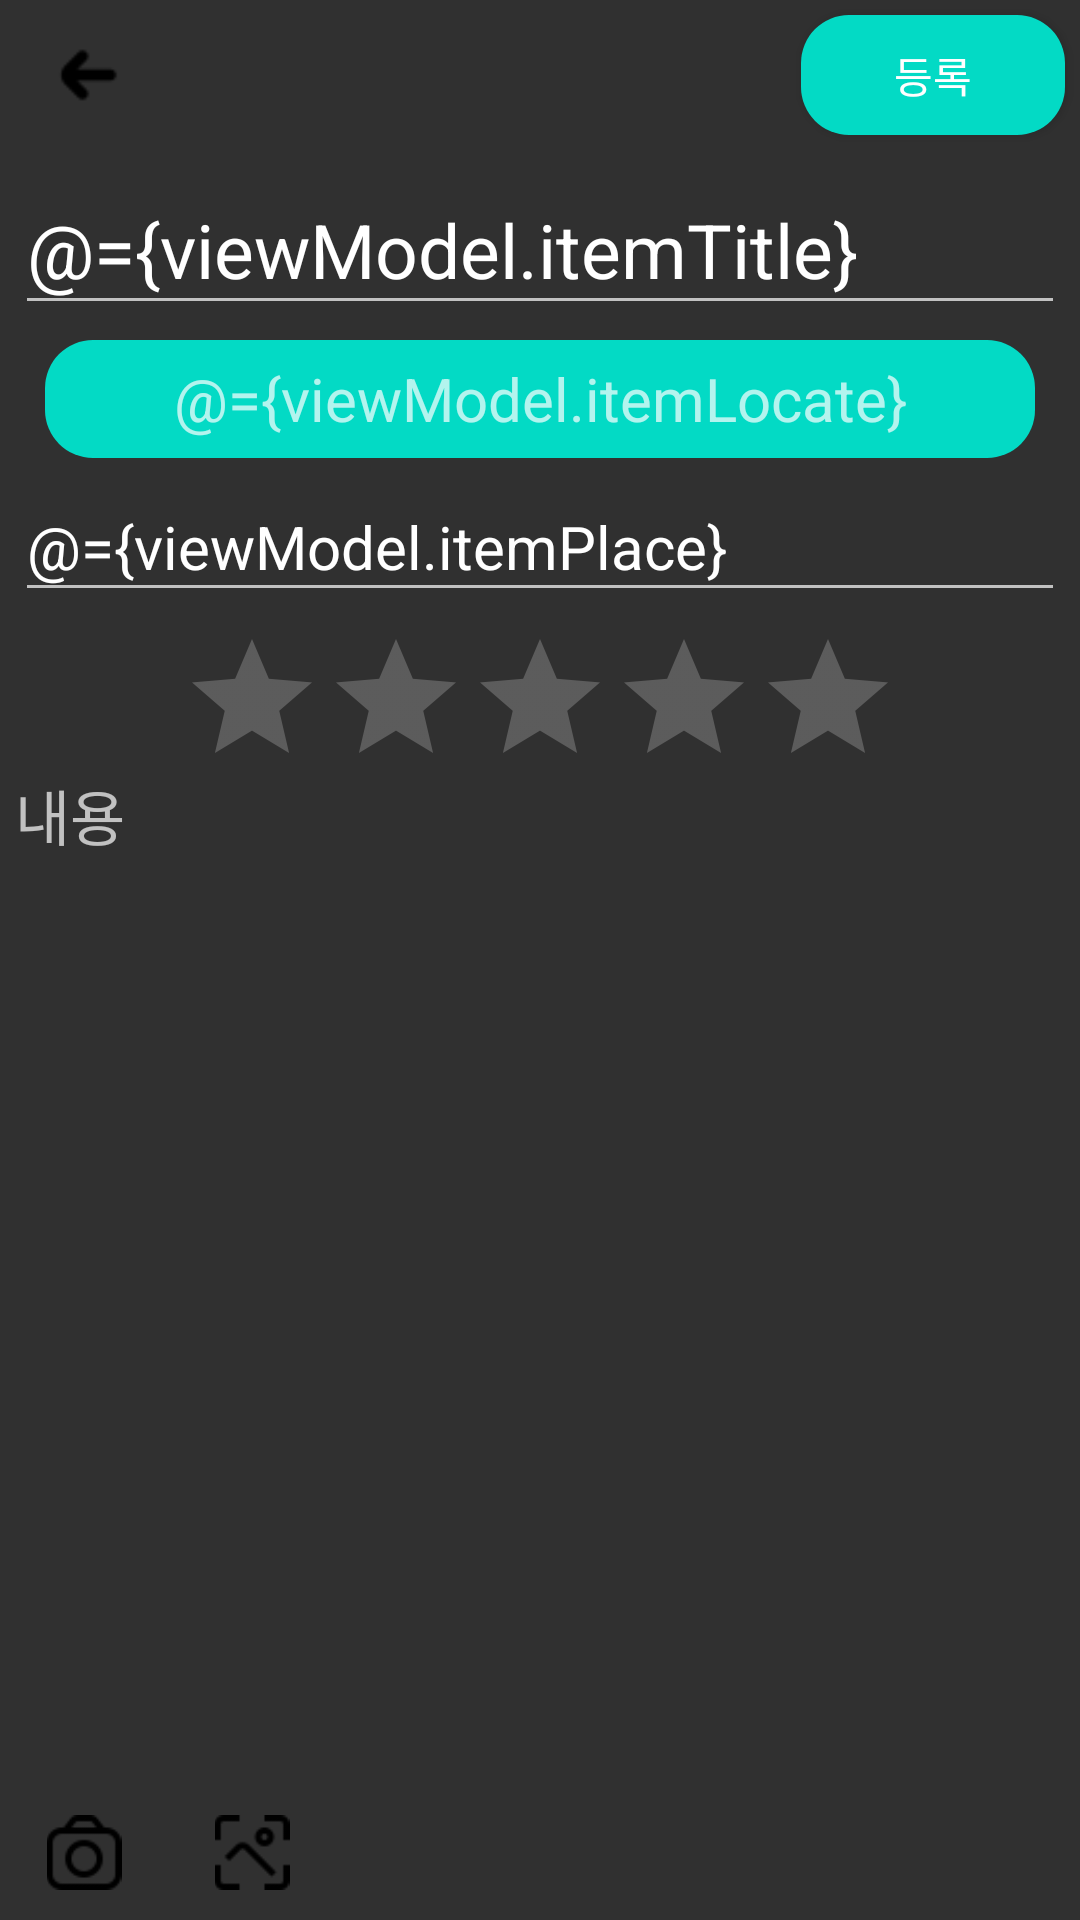

Named icons in this screenshot (1080x1920) and their centers, (x=x, y=y):
arrow left: (x=88, y=75)
camera: (x=84, y=1852)
mode landscape: (x=252, y=1852)
